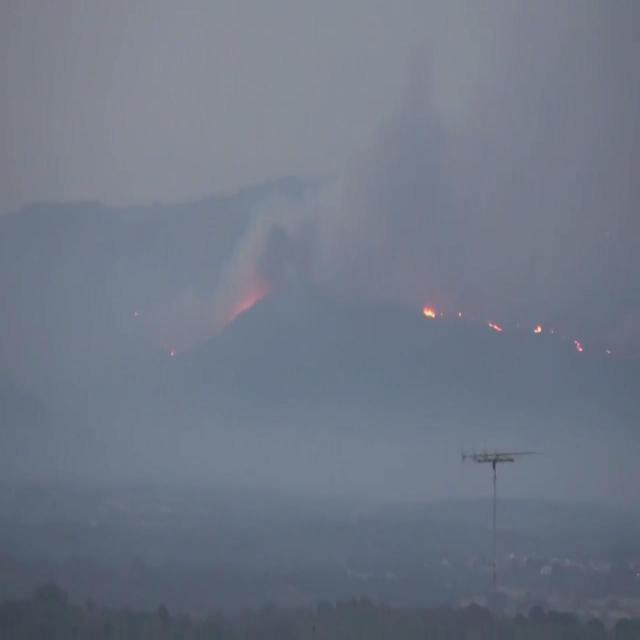Fire: (422, 303, 436, 318), (488, 316, 501, 332), (573, 336, 583, 351), (534, 321, 542, 335)
